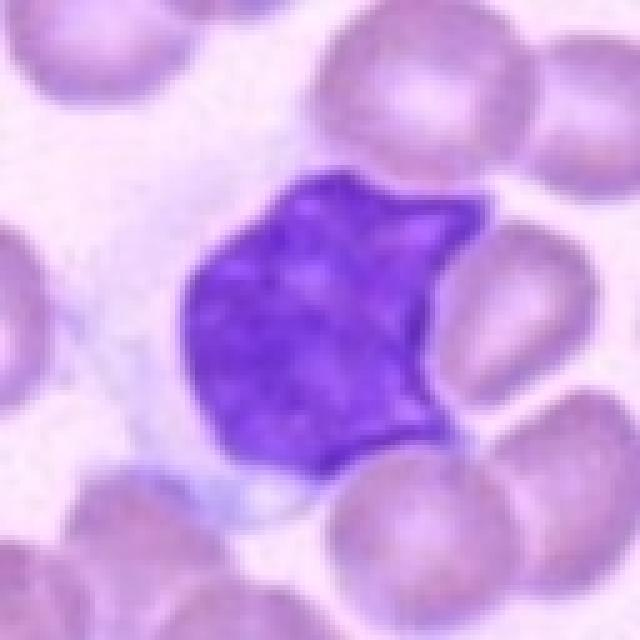lympho: (60, 101, 502, 532)
